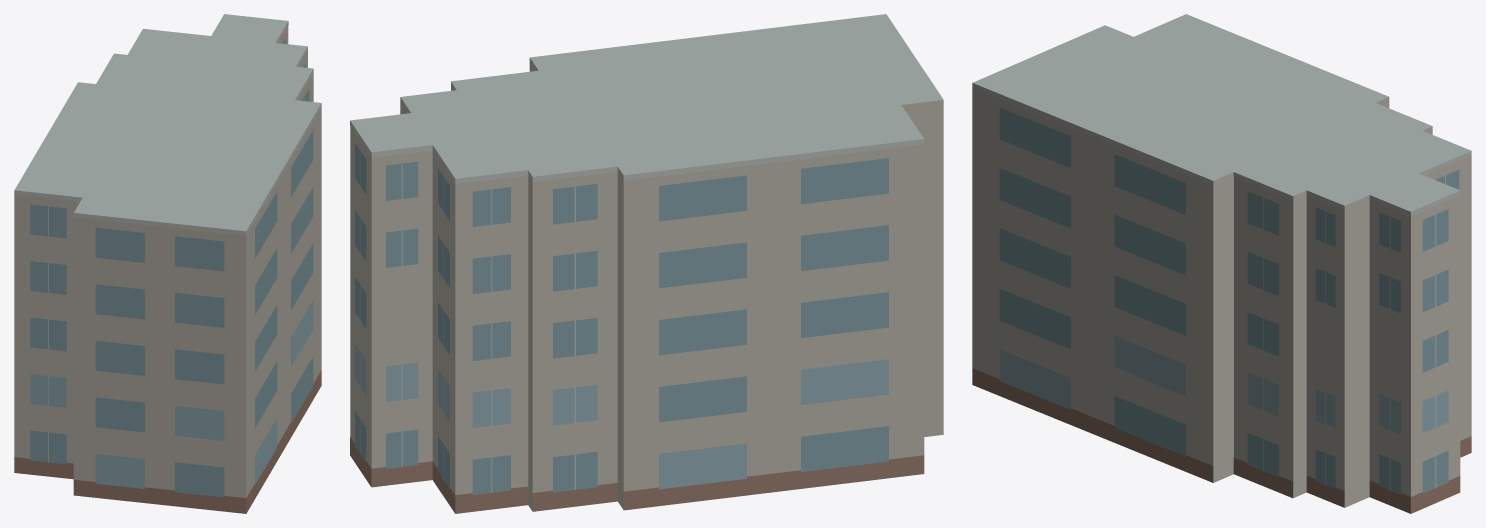
The model's file is survey-upis-32526332.glb.
The picture shows the model from 3 angles, left to right: view 1: azimuth 30°, elevation 25°; view 2: azimuth 150°, elevation 25°; view 3: azimuth 270°, elevation 25°; orthographic projection. The views are drawn at different scales.
Visible parts, largest first — view 1: survey-upis-32526332.tmp; view 2: survey-upis-32526332.tmp; view 3: survey-upis-32526332.tmp.
Boxes of the visible parts, x1,y1,x2,y2 form: survey-upis-32526332.tmp: (14, 14, 321, 513); survey-upis-32526332.tmp: (350, 14, 943, 513); survey-upis-32526332.tmp: (972, 14, 1471, 513).
Size of the model in its own units: 21.27 by 15.14 by 22.68.
